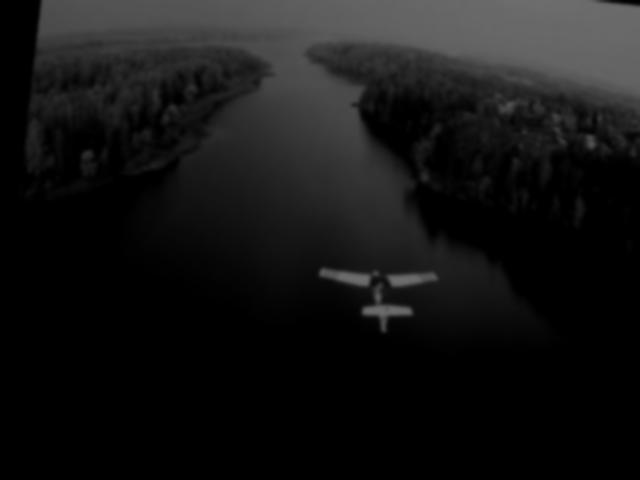hedef: (288, 246, 449, 365)
